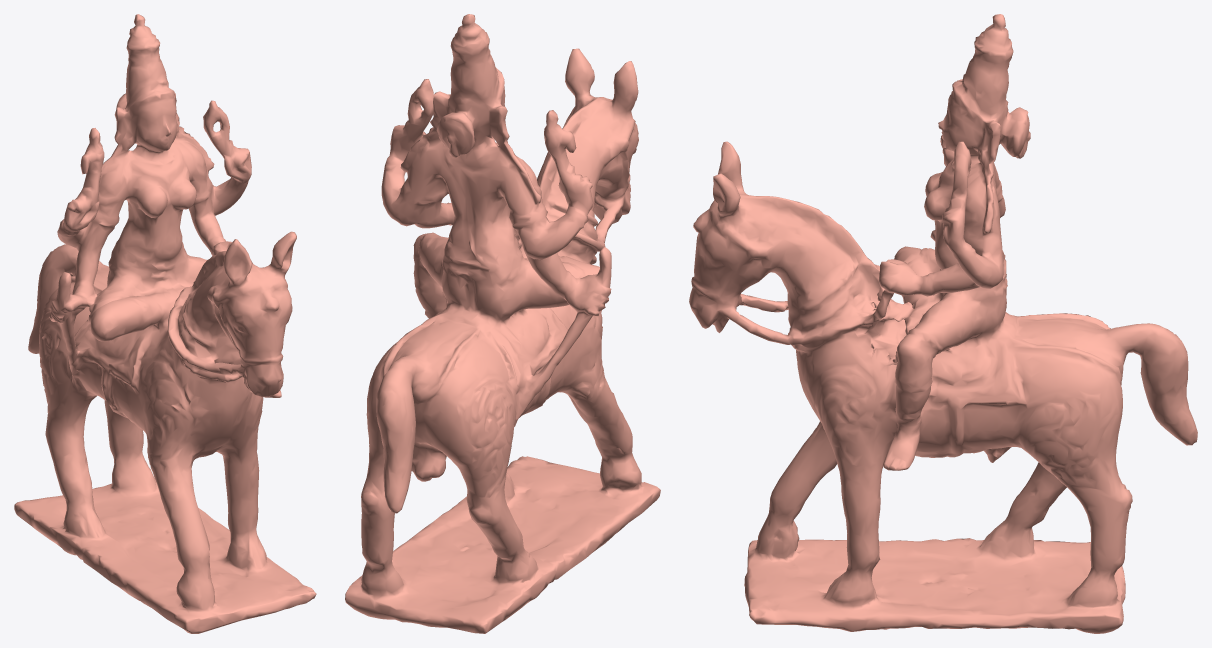
Rendered from Amman_Kamakchi_04.glb.
3 renders of one model, left to right at view 1: azimuth 30°, elevation 25°; view 2: azimuth 150°, elevation 25°; view 3: azimuth 270°, elevation 25°, orthographic. The views are drawn at different scales.
Parts seen in each view (by area): view 1: Amman_Kamakchi_04; view 2: Amman_Kamakchi_04; view 3: Amman_Kamakchi_04.
Boxes of the visible parts, <box> form: Amman_Kamakchi_04: <box>14,14,316,633</box>; Amman_Kamakchi_04: <box>345,14,660,633</box>; Amman_Kamakchi_04: <box>689,14,1197,633</box>.
Size of the model in its own units: 0.3845 by 0.9788 by 0.7601.
